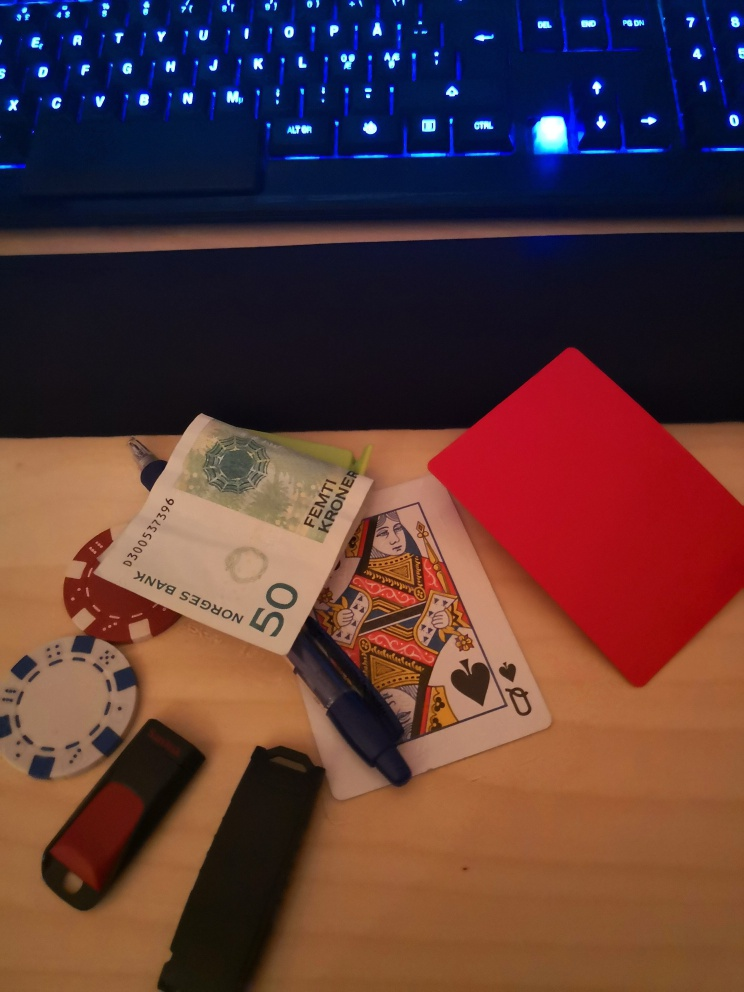queen: (298, 476, 553, 803)
